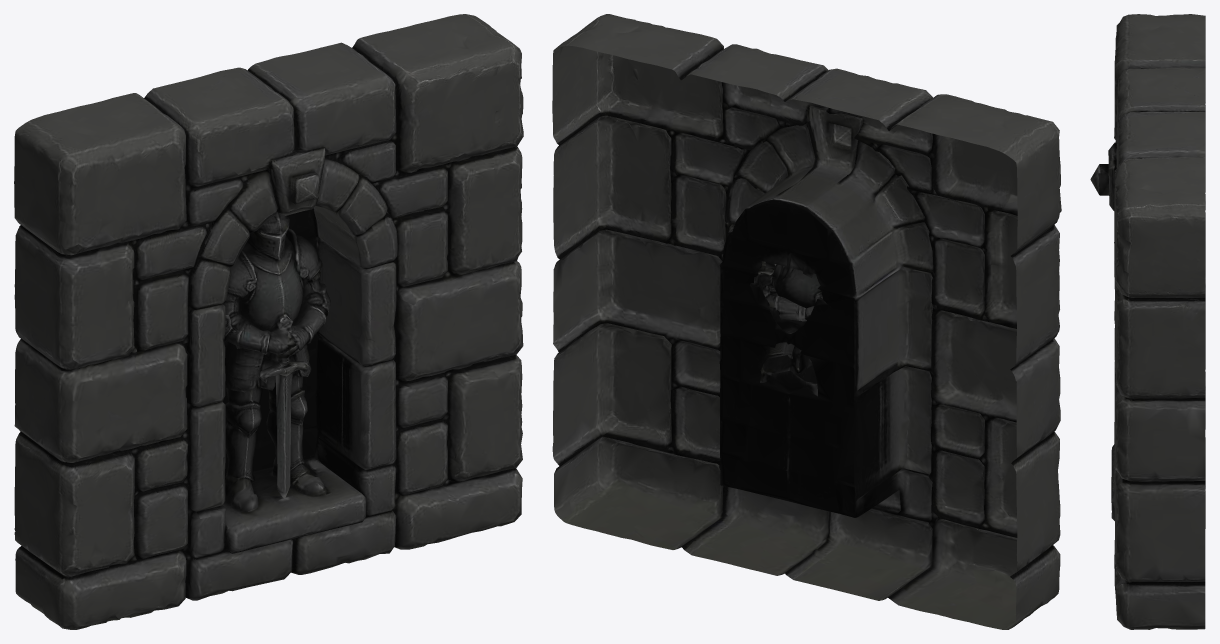
Rendered from Wall_ArmorRecessed.fbx.
3 views of the same model, side by side, from view 1: azimuth 30°, elevation 25°; view 2: azimuth 150°, elevation 25°; view 3: azimuth 270°, elevation 25° (orthographic). The views are drawn at different scales.
Visible parts, largest first — view 1: Wall_ArmorRecessed; view 2: Wall_ArmorRecessed; view 3: Wall_ArmorRecessed.
Boxes of the visible parts, left/top/right/bottom form: Wall_ArmorRecessed: left=14, top=14, right=523, bottom=629; Wall_ArmorRecessed: left=552, top=14, right=1061, bottom=629; Wall_ArmorRecessed: left=1090, top=14, right=1205, bottom=629.
Size of the model in its own units: 307 by 304 by 74.13.
